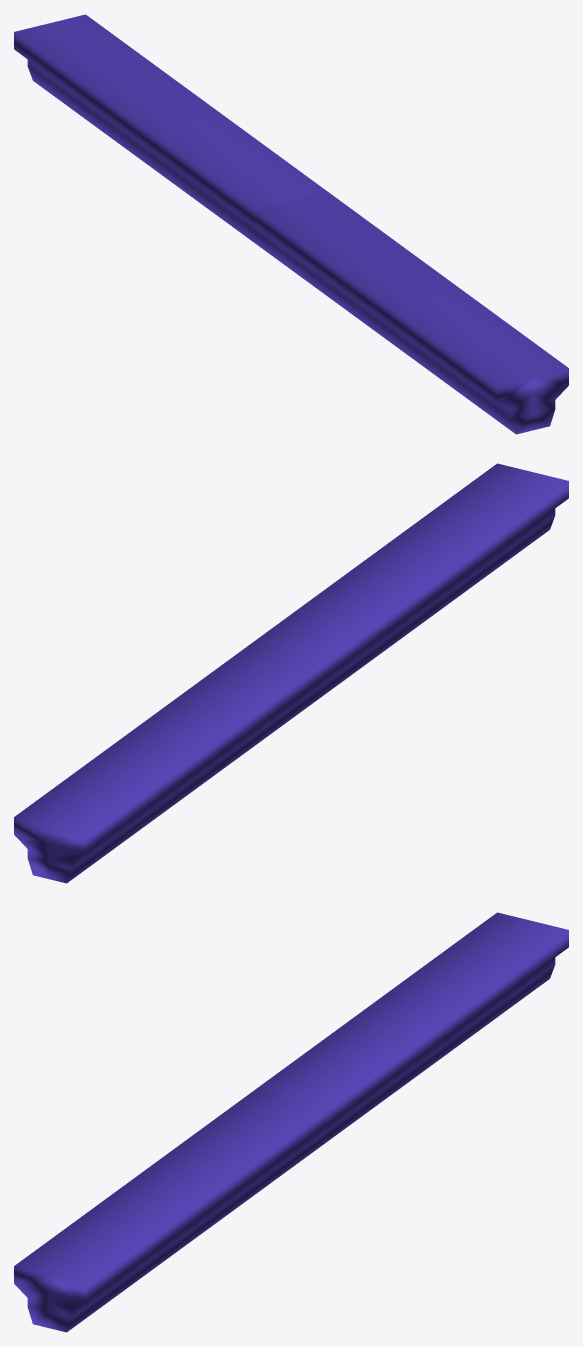
Rendered from Wall_Arc_04F_Lod0.fbx.
3 renders of one model, top to bottom at view 1: azimuth 30°, elevation 25°; view 2: azimuth 150°, elevation 25°; view 3: azimuth 330°, elevation 25°, orthographic.
Visible parts, largest first — view 1: Wall_Arc_04F_Lod0; view 2: Wall_Arc_04F_Lod0; view 3: Wall_Arc_04F_Lod0.
Part boxes in pixels (bbox=[...]): Wall_Arc_04F_Lod0: bbox=[14, 14, 568, 434]; Wall_Arc_04F_Lod0: bbox=[14, 463, 568, 883]; Wall_Arc_04F_Lod0: bbox=[14, 912, 568, 1332].
Bounding box in the file's own units: 51.4 × 36.61 × 600.
